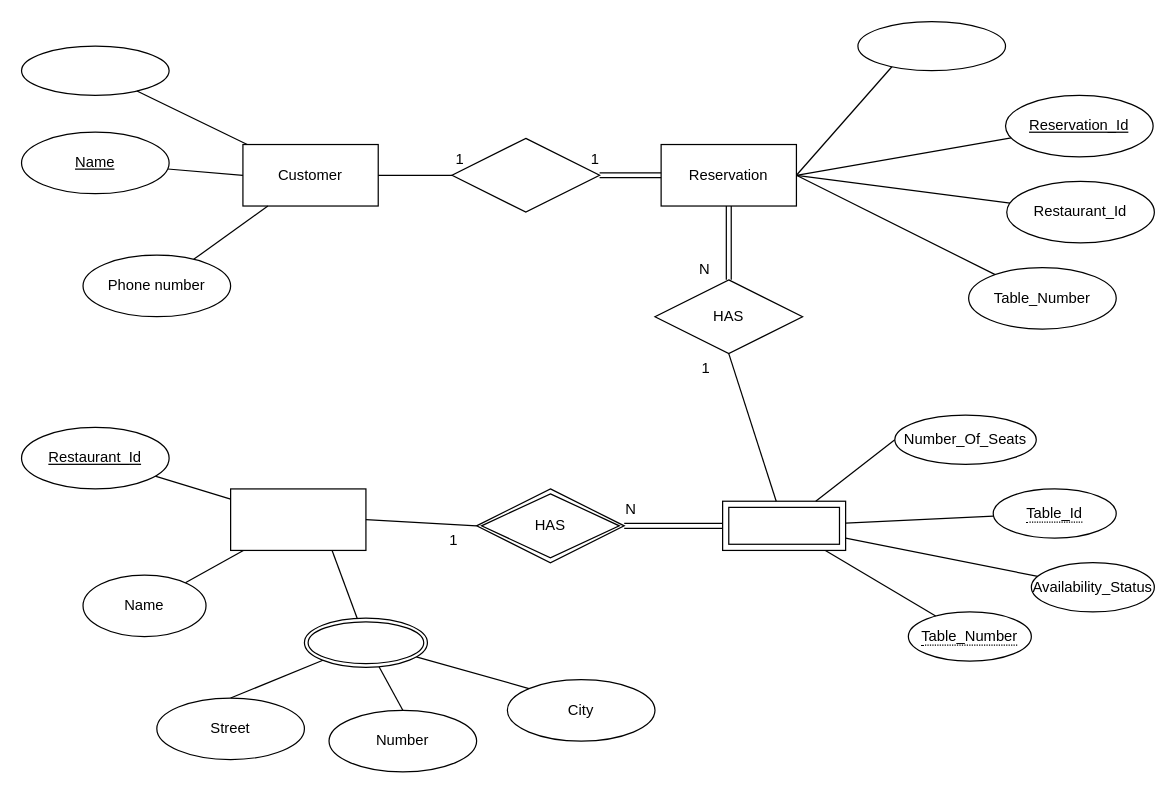
The diagram is 1176 pixels wide and 793 high, and some of its shapes have lost their labels. Each missing label, with the centre of its shape:
Customer_Id: the point at 94,70
Customer_Name: the point at 931,45
Location: the point at 365,642
MAKES: the point at 525,174
Restaurant: the point at 297,519
Table: the point at 783,525
